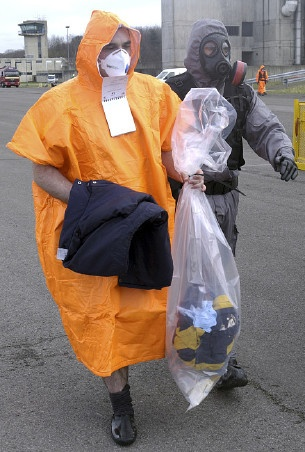Mask: (94, 33, 139, 79)
